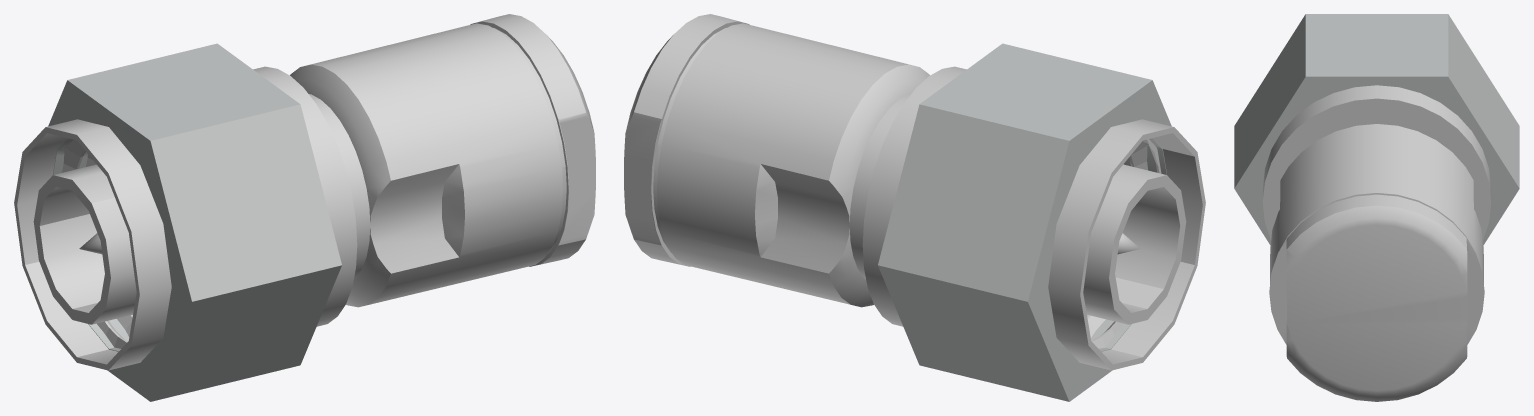
Rendered from Connector CNT.fbx.
3 renders of one model, left to right at view 1: azimuth 30°, elevation 25°; view 2: azimuth 150°, elevation 25°; view 3: azimuth 270°, elevation 25°, orthographic. The views are drawn at different scales.
Visible parts, largest first — view 1: Cylinder, Cylinder.001, Cylinder.002, Cylinder.003, Nut.001; view 2: Cylinder, Cylinder.001, Cylinder.002, Cylinder.003, Nut.001; view 3: Cylinder, Cylinder.001.
Part boxes in pixels (left/top/right/bottom): Cylinder: left=253, top=14, right=595, bottom=326; Cylinder.001: left=48, top=43, right=341, bottom=401; Cylinder.002: left=14, top=119, right=171, bottom=370; Cylinder.003: left=33, top=164, right=136, bottom=324; Nut.001: left=62, top=139, right=132, bottom=348; Cylinder: left=624, top=14, right=966, bottom=326; Cylinder.001: left=878, top=43, right=1171, bottom=401; Cylinder.002: left=1048, top=119, right=1205, bottom=370; Cylinder.003: left=1083, top=164, right=1186, bottom=324; Nut.001: left=1087, top=139, right=1161, bottom=348; Cylinder: left=1262, top=85, right=1491, bottom=401; Cylinder.001: left=1234, top=14, right=1519, bottom=245.
Bounding box in the file's own units: 355 × 188 × 217.
Materials: 1 (1 with a texture image).
